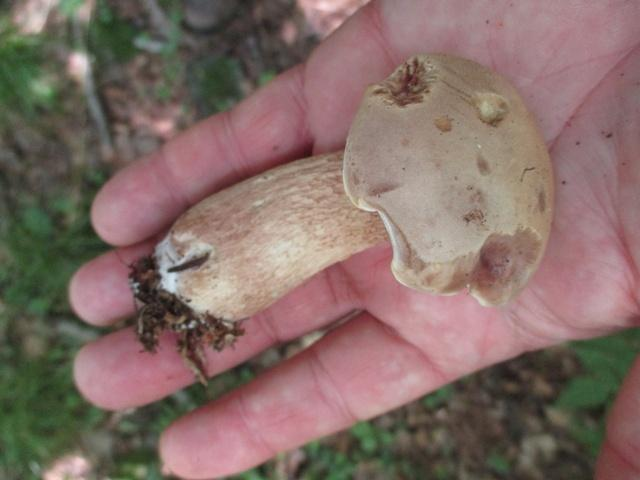poisonous_mushroom: (109, 37, 567, 387)
